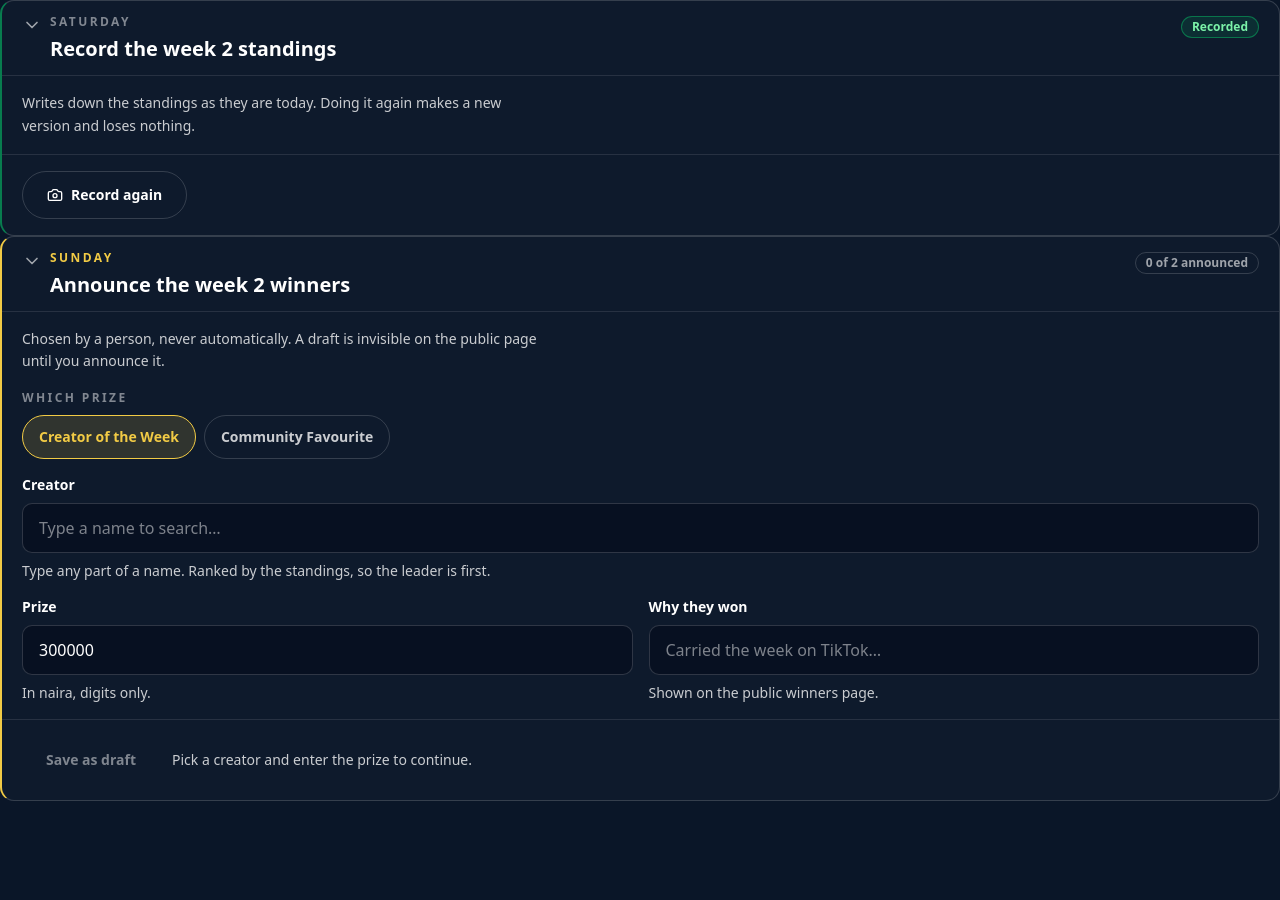
it: announcing Creator of the Week › will not announce until the tick is given, then sends a publish
Type "amara" into the dropdown.
click(640, 528); type("amara")  # box x1=22 y1=503 x2=1259 y2=553
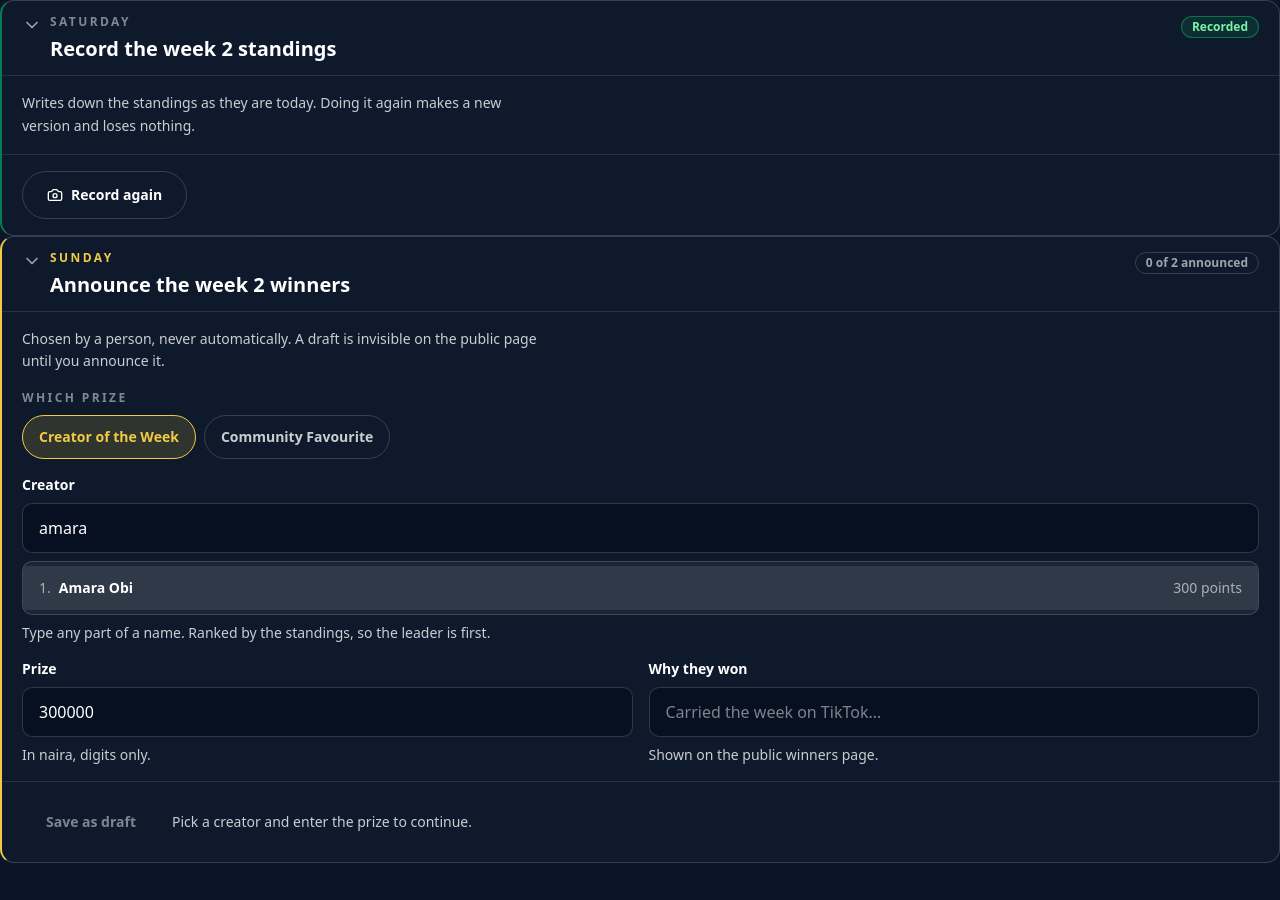
Press the mouse on the option "1. Amara Obi 300 points" at (96, 588), box x1=23 y1=566 x2=1258 y2=610
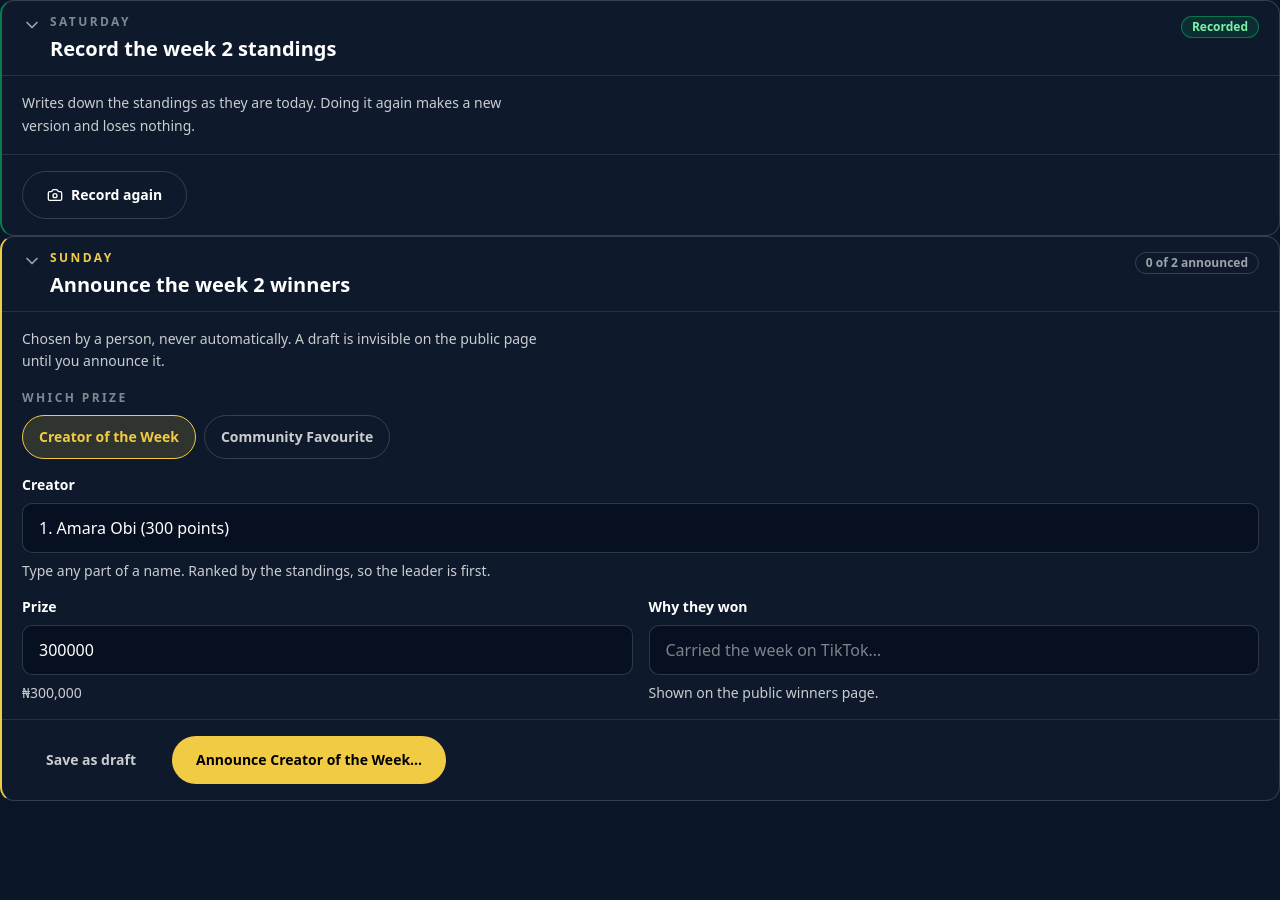
Click the button "Announce Creator of the Week…".
click(309, 760)  # box x1=172 y1=736 x2=446 y2=784
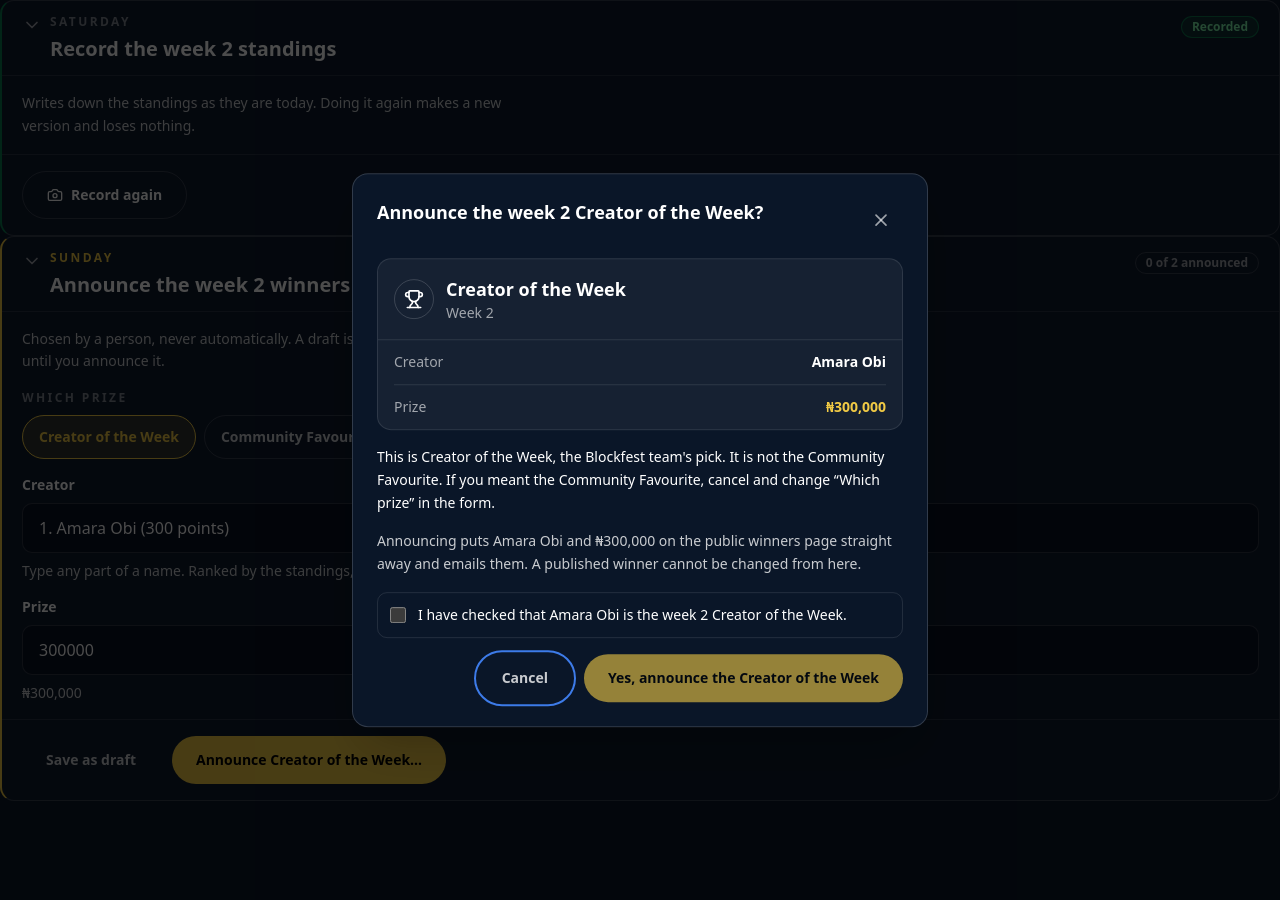
Result: the button "Yes, announce the Creator of the Week" is disabled at x1=584 y1=654 x2=903 y2=702
Click the checkbox labelled "I have checked that Amara Obi is the week 2 Creator of the Week.".
click(398, 615)  # box x1=390 y1=607 x2=406 y2=623
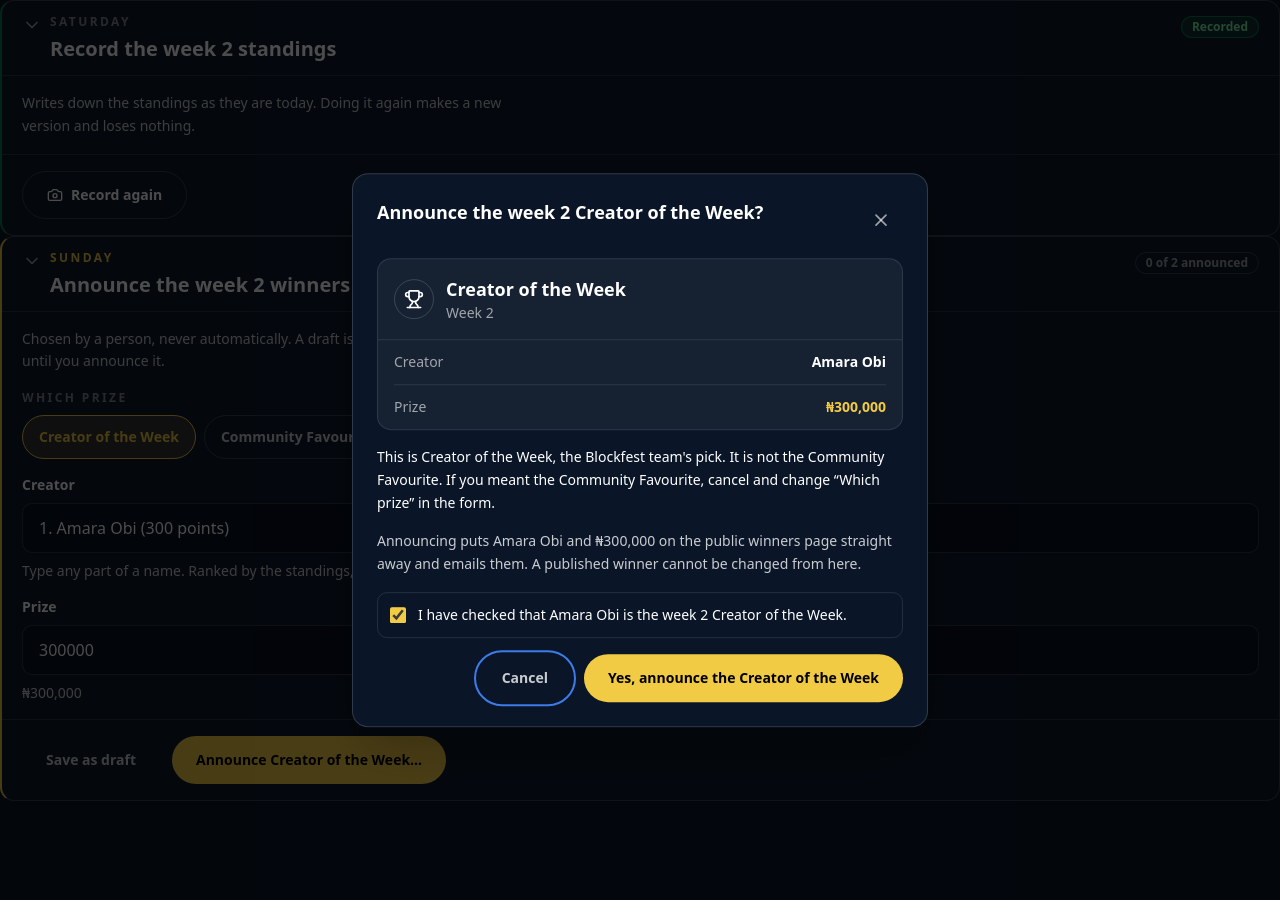
Result: the button "Yes, announce the Creator of the Week" is enabled
Click the button "Yes, announce the Creator of the Week".
click(744, 678)  # box x1=584 y1=654 x2=903 y2=702
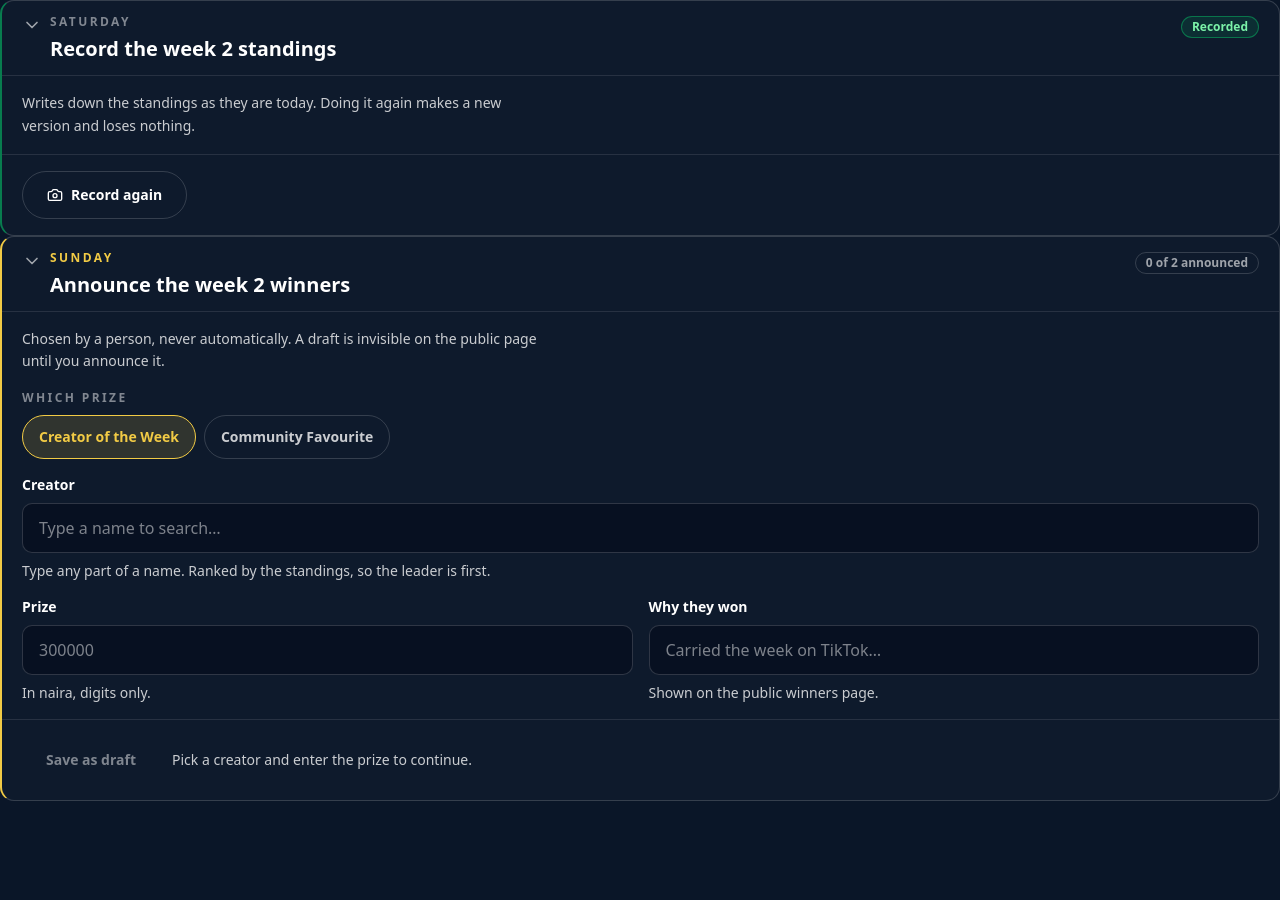
Result: the dialog is gone
